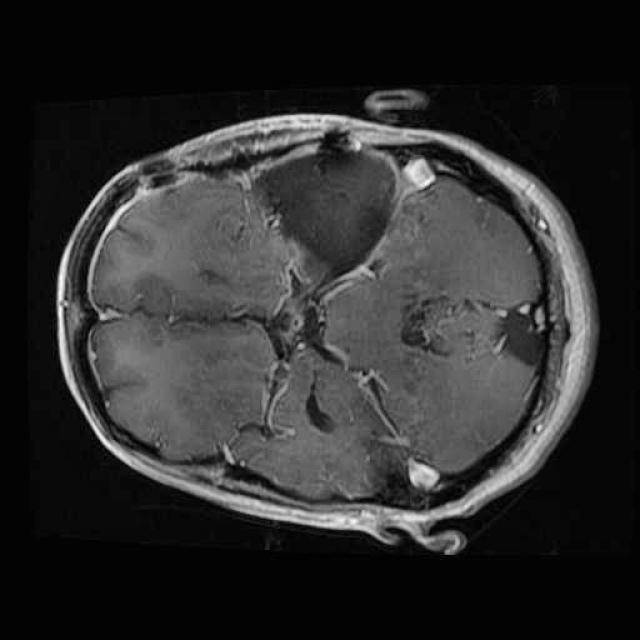Non-Tumor: (239, 126, 420, 292)
